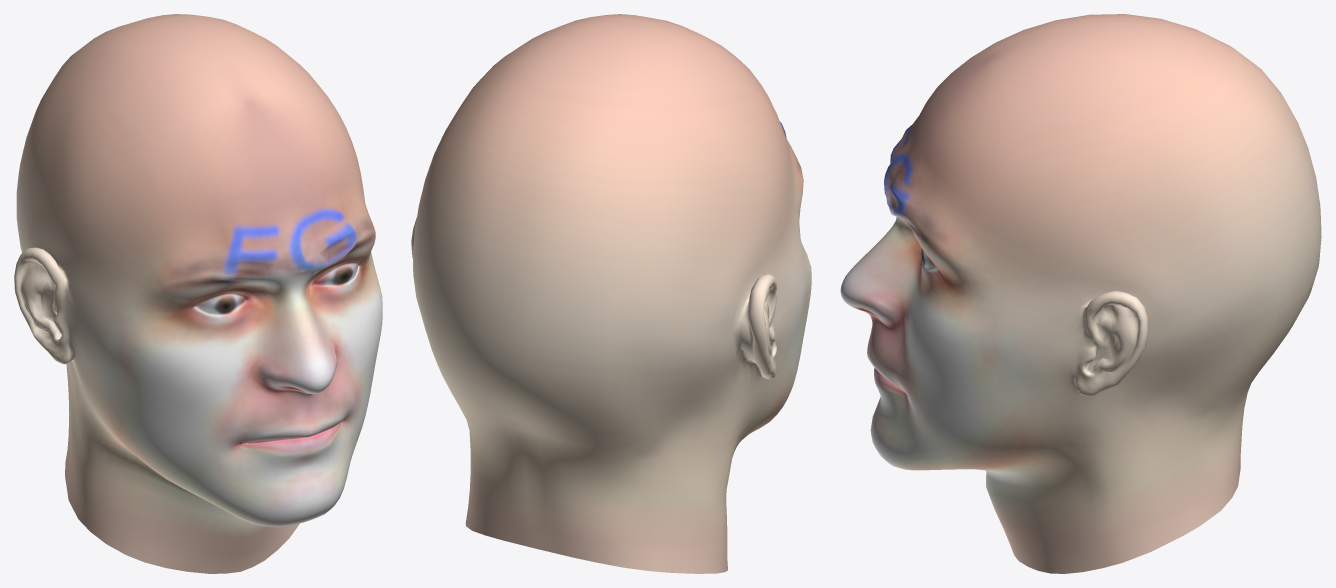
The model's file is random_anyrace_anysex_10.obj.
3 views of the same model, side by side, from view 1: azimuth 30°, elevation 25°; view 2: azimuth 150°, elevation 25°; view 3: azimuth 270°, elevation 25° (orthographic). The views are drawn at different scales.
Parts seen in each view (by area): view 1: HeadHires; view 2: HeadHires; view 3: HeadHires.
Boxes of the visible parts, x1,y1,x2,y2 form: HeadHires: (14, 14, 382, 573); HeadHires: (411, 14, 811, 573); HeadHires: (840, 14, 1321, 573).
Bounding box in the file's own units: 192 × 283 × 237.
Materials: 1 (1 with a texture image).
